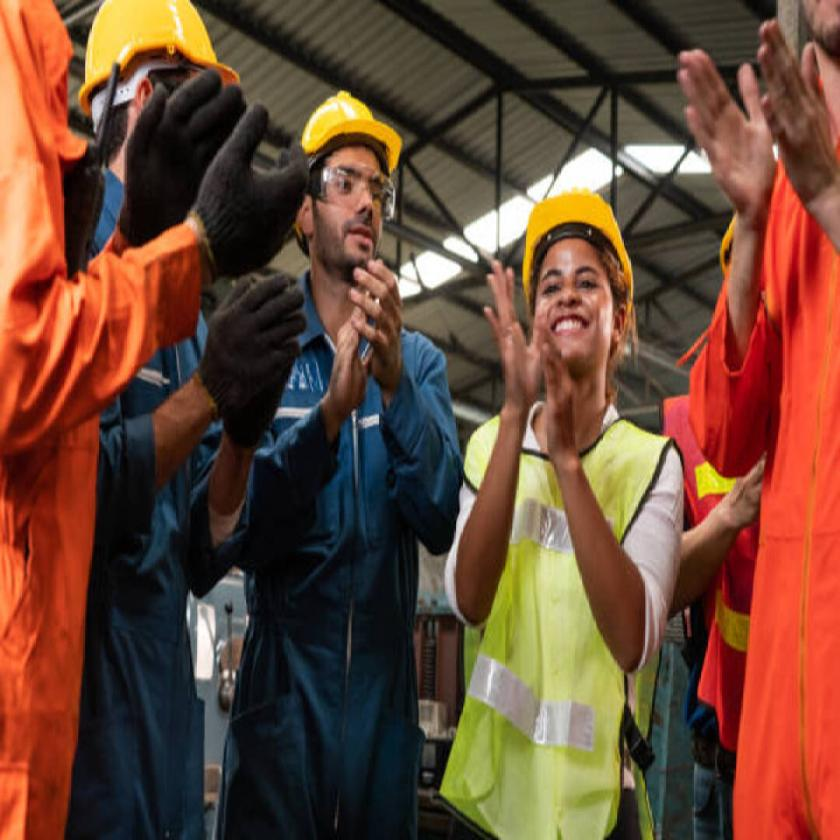Con_casco: (522, 186, 635, 416), (296, 86, 404, 307)
